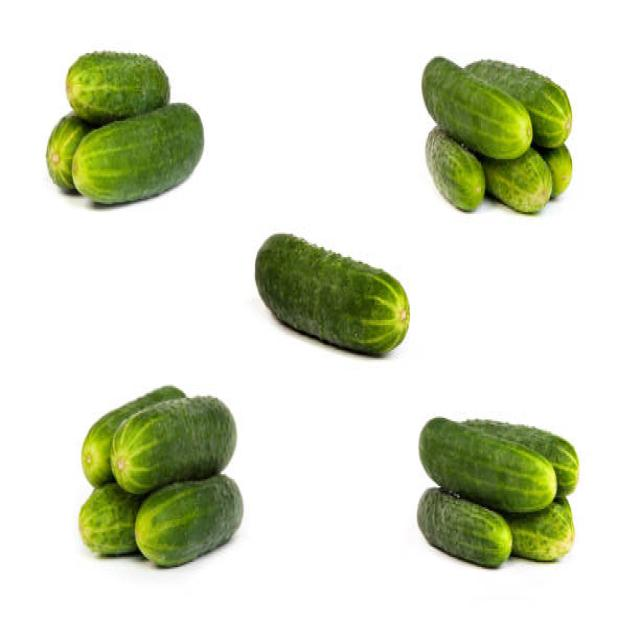cucumber: (79, 386, 244, 568), (417, 412, 580, 570), (47, 47, 204, 207), (423, 54, 573, 216), (254, 231, 411, 357)
